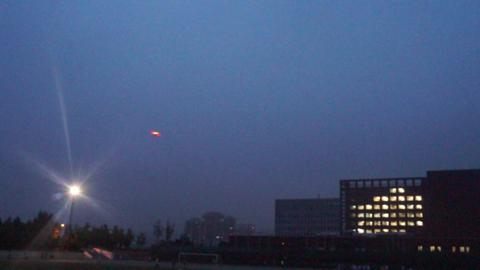UAV: (151, 131, 162, 136)
